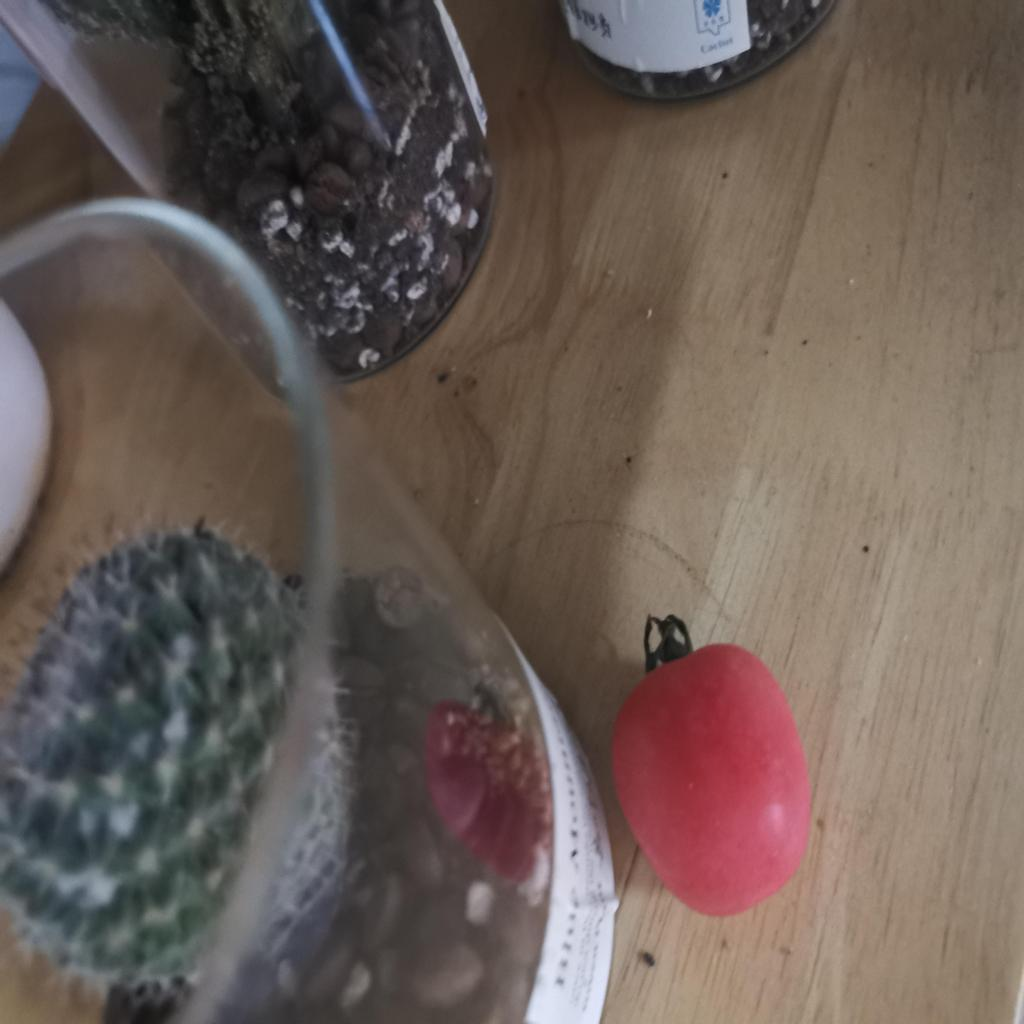tomato: (606, 625, 813, 921)
